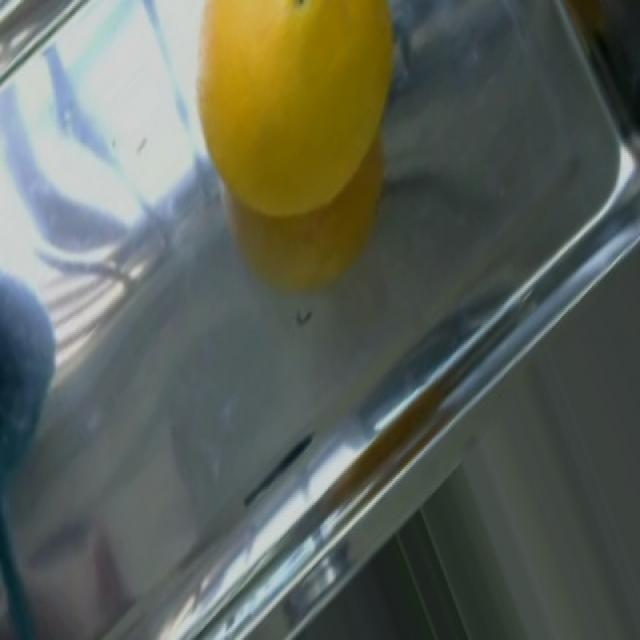Fruit: (176, 0, 419, 314), (514, 0, 640, 139)
